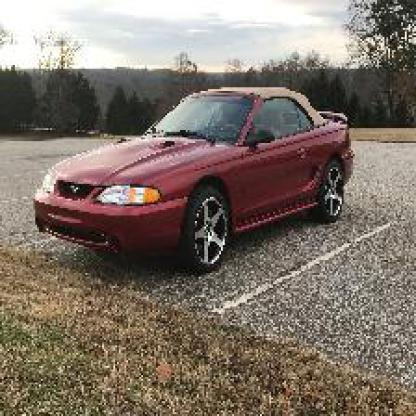not_emergency: (31, 81, 358, 274)
